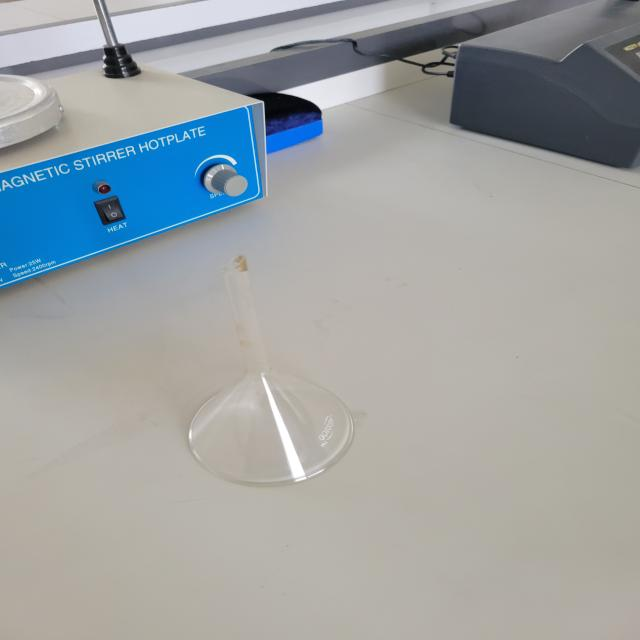Funnel: (168, 226, 380, 517)
